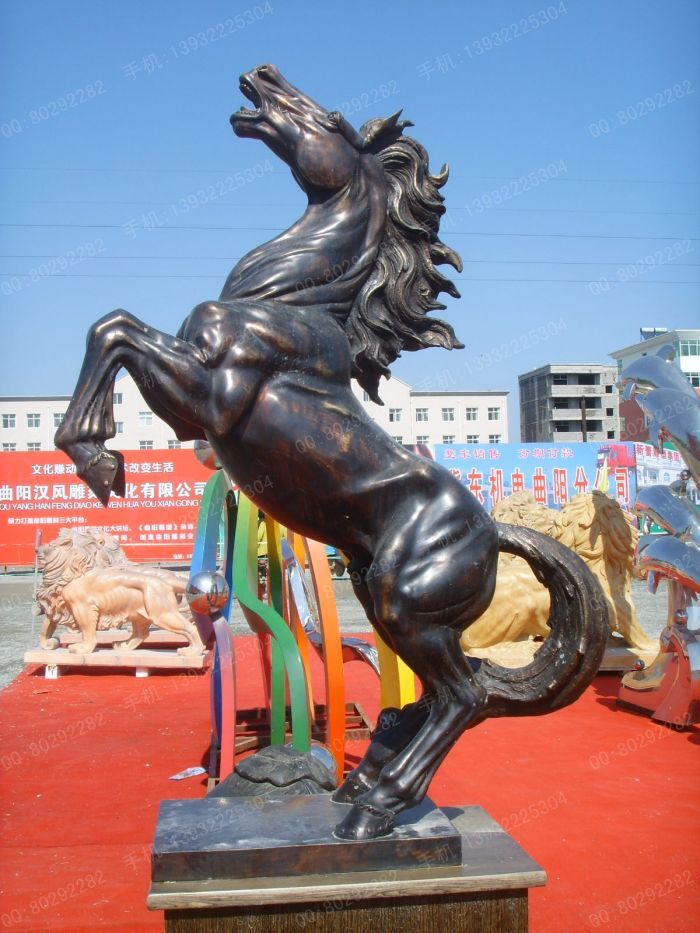background: (64, 55, 648, 842)
